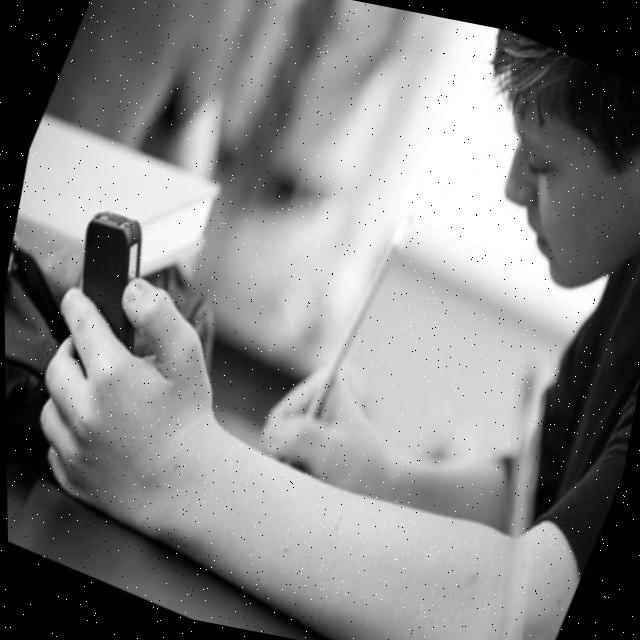phone: (41, 195, 185, 361)
